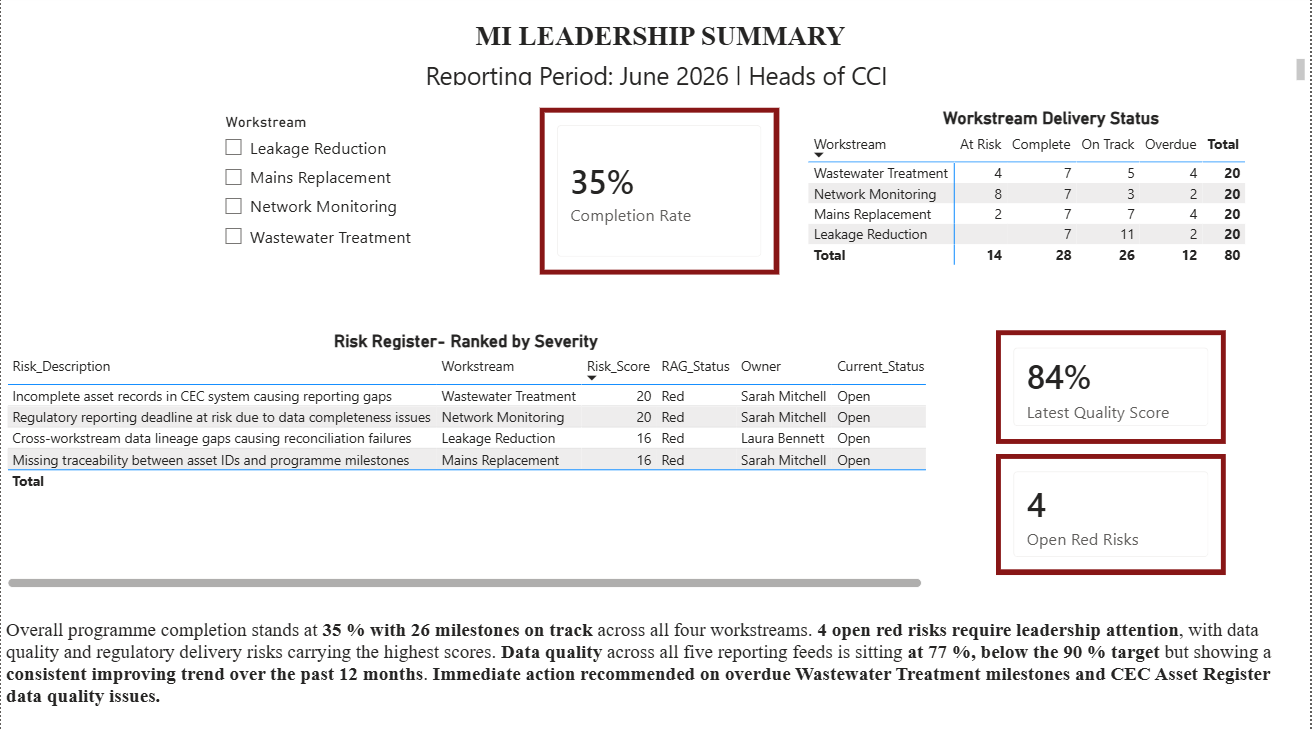

What the dashboard file says about the page in this screenshot:
{"tool":"powerbi","page":{"name":"MI Leadership Summary","canvas":[1280,720],"ordinal":3},"visuals":[{"type":"textbox","box":[9.6,20.6,1270.7,56.3],"z":0},{"type":"textbox","box":[9.6,59,1270.7,35.7],"z":1000},{"type":"cardVisual","fields":{"Data":["Risk_Register.Open Red Risks"]},"box":[972.9,450.1,225,118],"z":2000},{"type":"cardVisual","fields":{"Data":["Programme_Milestones.Completion Rate"]},"box":[526.9,111.1,234.6,163.3],"z":3000},{"type":"cardVisual","fields":{"Data":["Data_Quality_Log.Latest Quality Score"]},"box":[972.9,329.3,225,111.1],"z":4000},{"type":"pivotTable","title":"Workstream Delivery Status","fields":{"Rows":["Programme_Milestones.Workstream"],"Values":["CountNonNull(Programme_Milestones.Milestone_ID)"],"Columns":["Programme_Milestones.Status"]},"box":[784.9,111.1,484.4,163.3],"z":5000},{"type":"tableEx","title":"Risk Register- Ranked by Severity","fields":{"Values":["Risk_Register.Risk_Description","Risk_Register.Workstream","Risk_Register.Risk_Score","Risk_Register.RAG_Status","Risk_Register.Owner","Risk_Register.Current_Status"]},"box":[0,329.3,909.8,256.6],"z":6000},{"type":"slicer","fields":{"Values":["Programme_Milestones.Workstream"]},"box":[207.2,111.1,286.8,163.3],"z":7000},{"type":"textbox","box":[0,606.5,1280.3,113.9],"z":8000}]}

Visuals, with their boxes in screenshot pixels (x1, y1, x2, y2), scaled from the page's 1280x720 canvas onto the 1315x729 screenshot:
textbox: <bbox>10, 21, 1314, 78</bbox>
textbox: <bbox>10, 60, 1314, 96</bbox>
cardVisual - Risk_Register.Open Red Risks: <bbox>1000, 456, 1231, 575</bbox>
cardVisual - Programme_Milestones.Completion Rate: <bbox>541, 112, 782, 278</bbox>
cardVisual - Data_Quality_Log.Latest Quality Score: <bbox>1000, 333, 1231, 446</bbox>
"Workstream Delivery Status" pivotTable: <bbox>806, 112, 1304, 278</bbox>
"Risk Register- Ranked by Severity" tableEx: <bbox>0, 333, 935, 593</bbox>
slicer - Programme_Milestones.Workstream: <bbox>213, 112, 508, 278</bbox>
textbox: <bbox>0, 614, 1314, 728</bbox>
